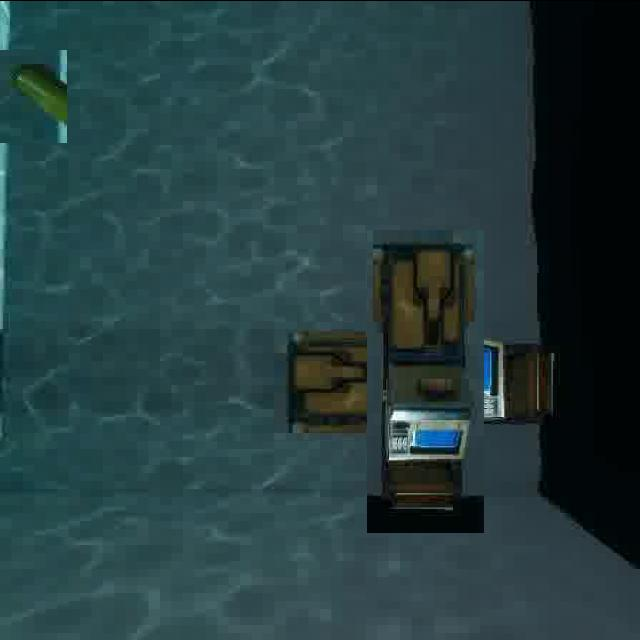Control Panel: (320, 275, 530, 485)
Pipe: (0, 49, 67, 142)
